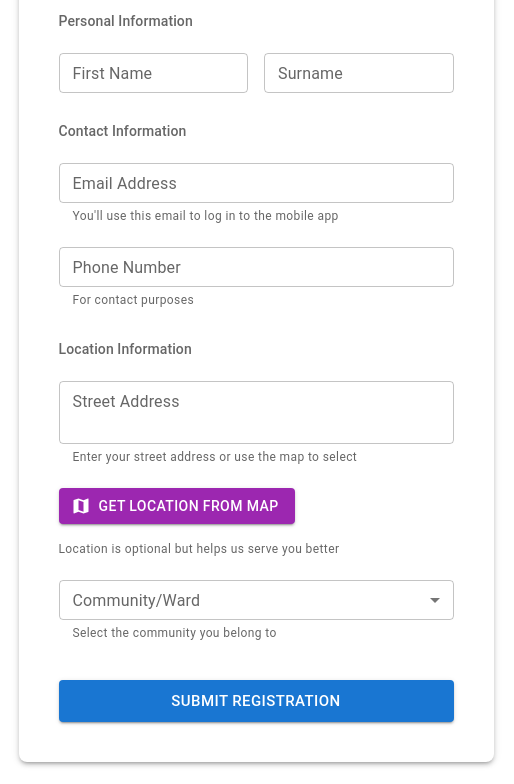
Test: RegisterPage › rendering › should load sectors from API
The image size is (514, 784).
(page scrolled)
# Open dropdown and check sectors are loaded
Click the dropdown named "community/ward" at {"x": 256, "y": 600}, box [58,580,454,620]
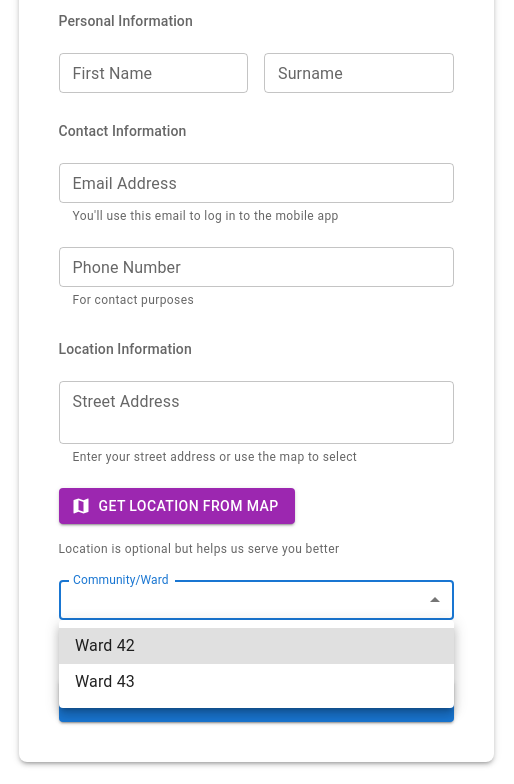
Now the option "Ward 42" is shown, box [59,628,454,664]
